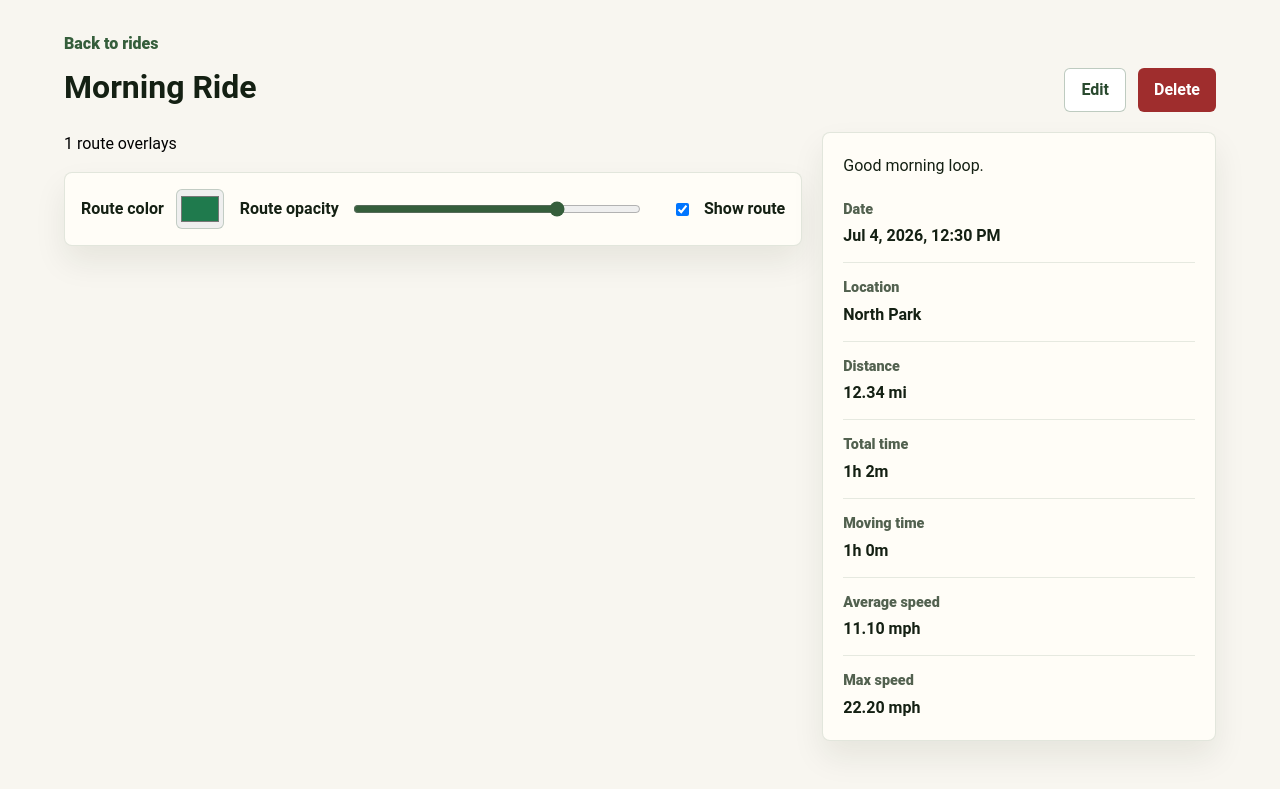
Scenario: RideDetailsView › updates ride name and description from the edit modal
This screenshot has width=1280, height=800.
Click the button "Edit": click(1095, 90) [1064, 68, 1126, 112]
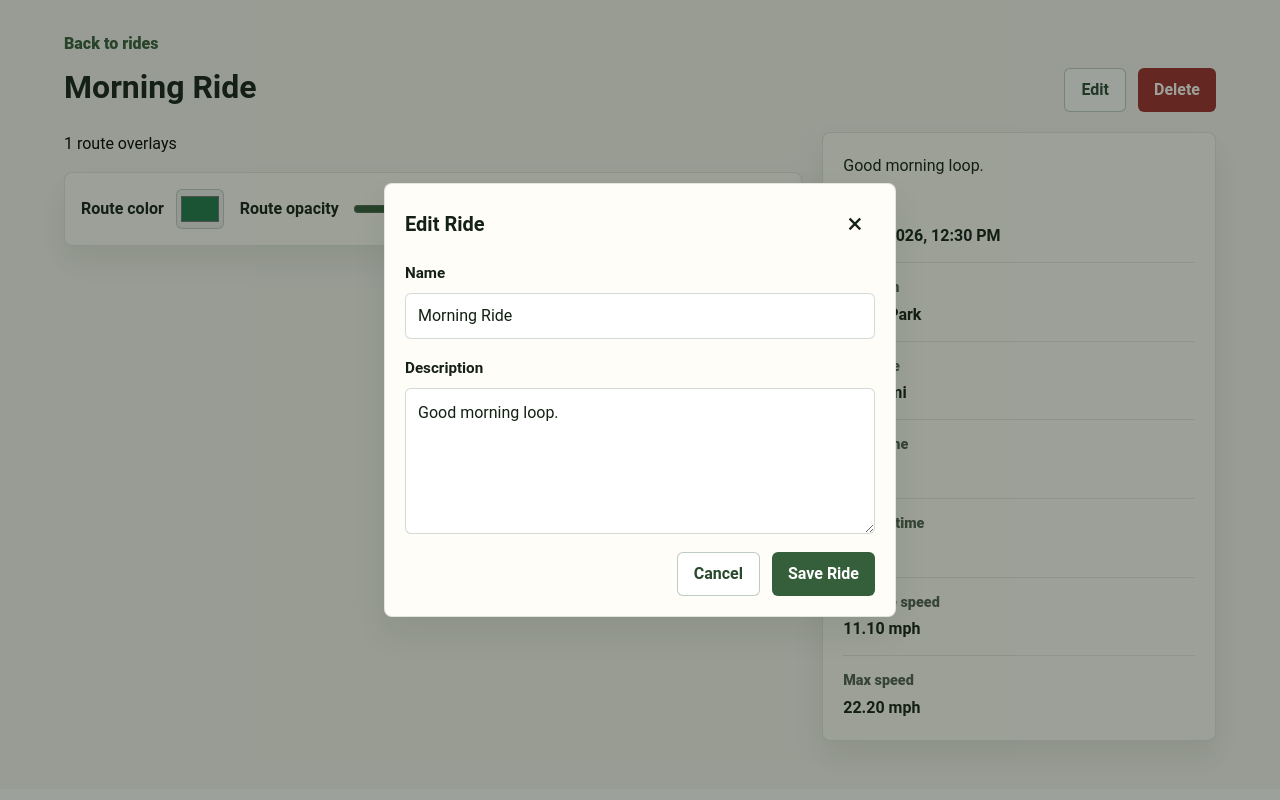
Replace the text in the field with id "edit-ride-name" with "Updated Ride": (640, 316) [405, 293, 875, 339]
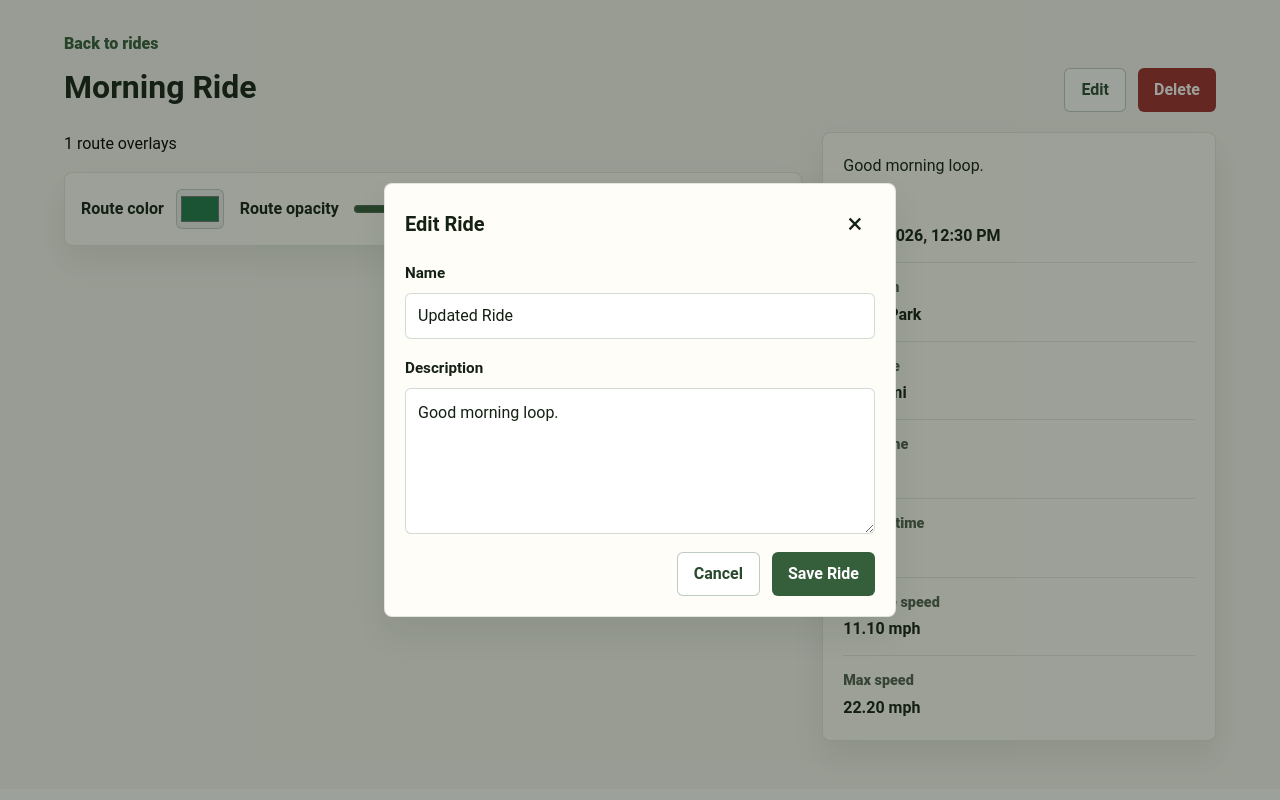
Replace the text in the text box with id "edit-ride-description" with "Updated description.": (640, 461) [405, 388, 875, 534]
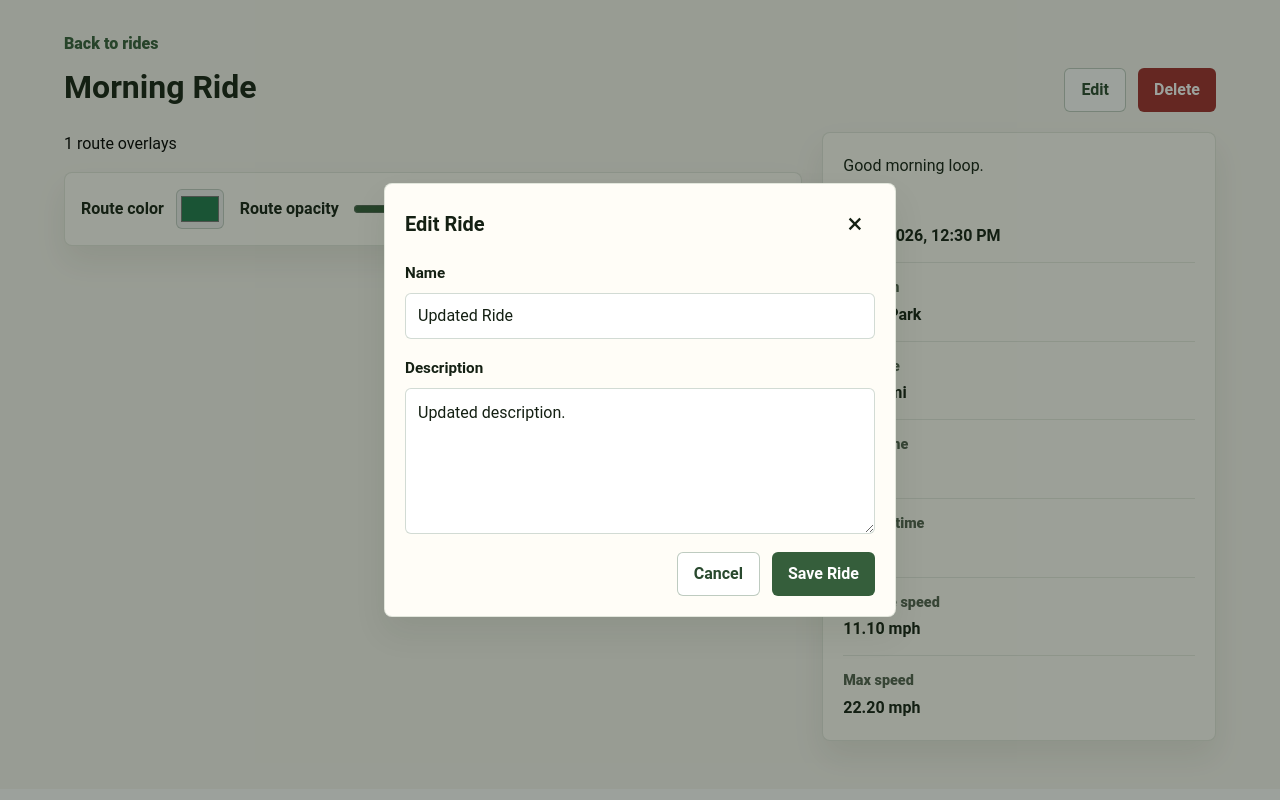
Submit the form with class "modal-form", box [405, 262, 875, 596]
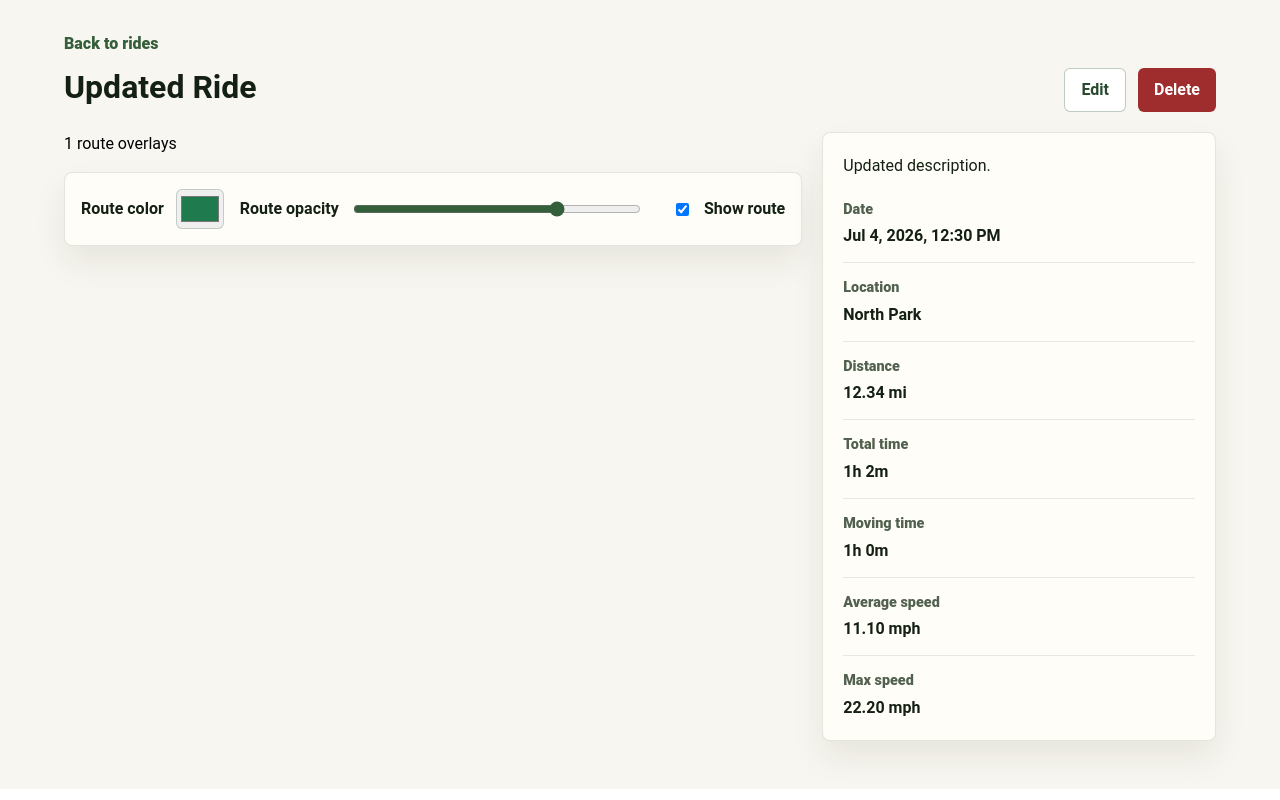
Check: the text "Updated Ride" is shown, box [64, 68, 257, 106]
Check: the text "Updated description." is shown, box [843, 156, 991, 175]
